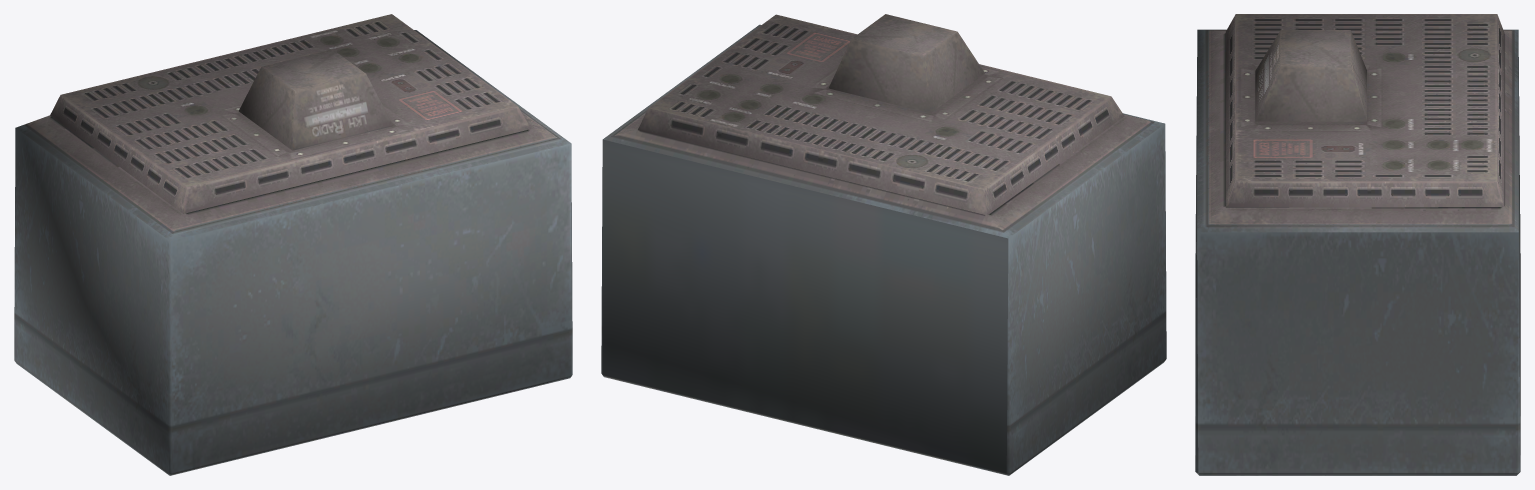
File: p_int_monitor_c_bink_LOD1.obj
3 views of the same model, side by side, from view 1: azimuth 30°, elevation 25°; view 2: azimuth 150°, elevation 25°; view 3: azimuth 270°, elevation 25° (orthographic). The views are drawn at different scales.
Parts seen in each view (by area): view 1: mtl_p_int_monitor_c; view 2: mtl_p_int_monitor_c; view 3: mtl_p_int_monitor_c.
Part boxes in pixels (box(x1,y1,x2,y2)): mtl_p_int_monitor_c: box(14, 14, 572, 475); mtl_p_int_monitor_c: box(601, 14, 1166, 475); mtl_p_int_monitor_c: box(1195, 14, 1520, 475).
Size of the model in its own units: 113 by 86.16 by 76.2.
